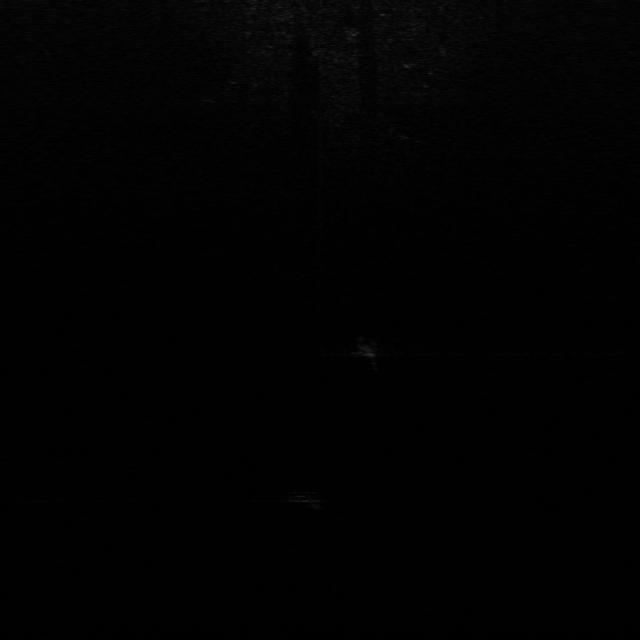cube: (280, 487, 322, 506)
square cage: (351, 335, 383, 358)
